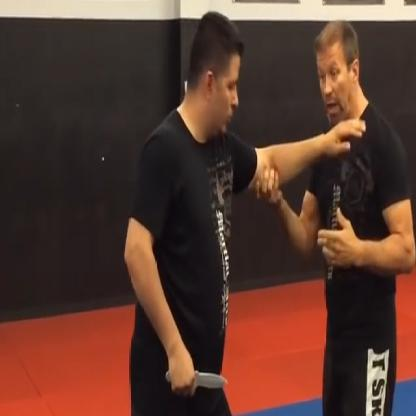knife: (163, 352, 230, 396)
